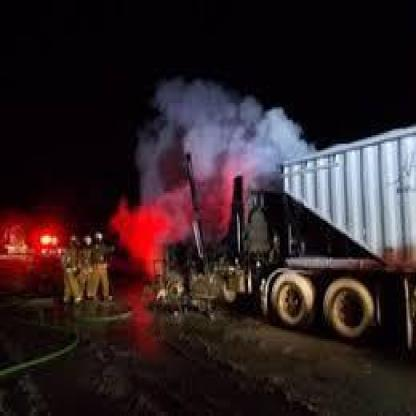smoke: (108, 66, 297, 272)
